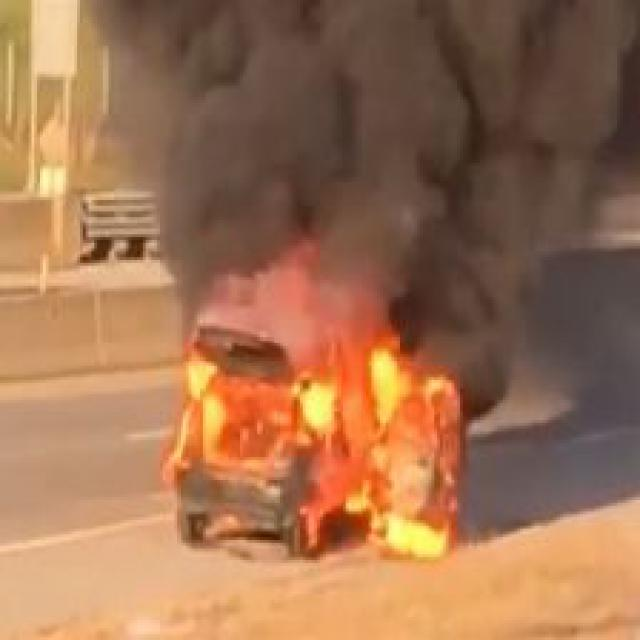fire: (154, 245, 477, 566)
